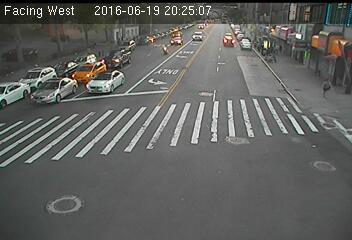neg: (157, 41, 173, 63), (110, 27, 123, 43)
pos: (319, 76, 336, 98)
